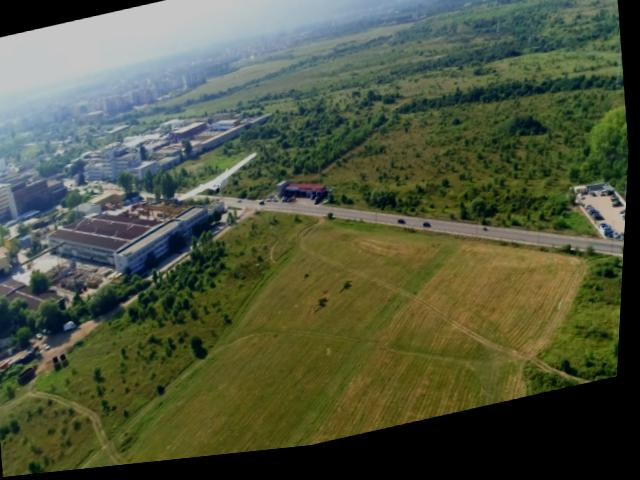plane: (176, 156, 263, 205)
